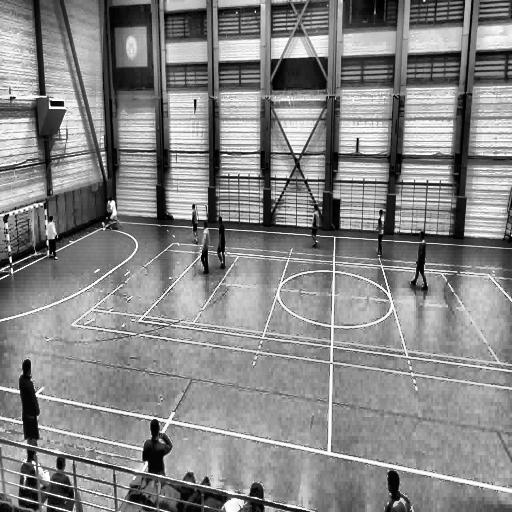player: (142, 418, 173, 504), (19, 363, 40, 458), (409, 228, 426, 290), (46, 215, 59, 260), (109, 196, 125, 231), (200, 221, 210, 275), (217, 215, 226, 270), (376, 208, 384, 256), (101, 198, 113, 230), (311, 204, 319, 249), (191, 204, 198, 245)
